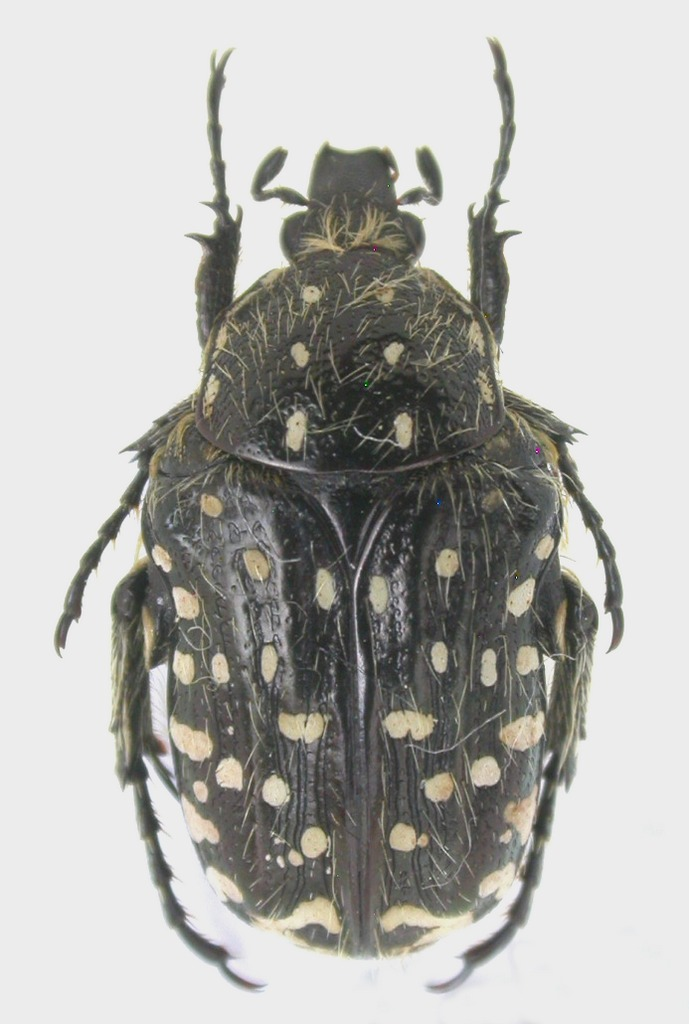Oxythyrea_funesta: (43, 17, 634, 1002)
